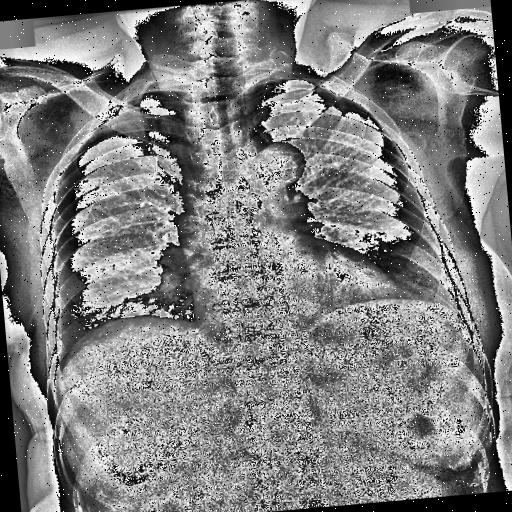0- Aortic enlargement: (238, 142, 306, 200), (246, 138, 308, 190), (250, 141, 306, 186)
11- Pleural thickening: (309, 80, 370, 120), (88, 114, 120, 142), (254, 78, 284, 90)
3- Cardiomegaly: (190, 274, 406, 340)
7- Lung Opacity: (377, 240, 459, 312)
